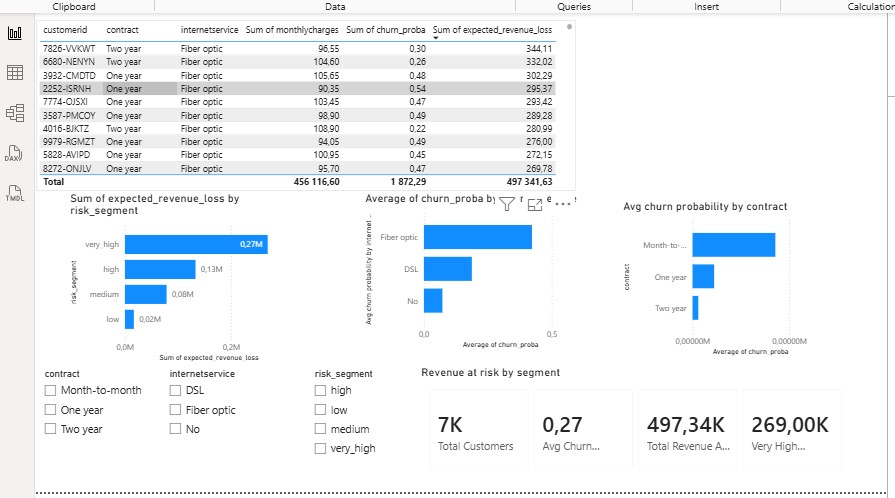

Layout of this report page (visuals, bound fields, positions):
{"tool":"powerbi","page":{"name":"Page 1","canvas":[1280,720],"ordinal":0},"visuals":[{"type":"cardVisual","title":"Revenue at risk by segment","fields":{"Data":["powerbi_scoring_mart.Total Customers","powerbi_scoring_mart.Avg Churn Probability","powerbi_scoring_mart.Total Revenue At Risk","powerbi_scoring_mart.Very High Revenue At Risk"]},"box":[1.5,282.4,656.5,156.2],"z":0},{"type":"clusteredBarChart","fields":{"Category":["powerbi_scoring_mart.risk_segment"],"Y":["Sum(powerbi_scoring_mart.expected_revenue_loss)"]},"box":[981,267.4,280.9,250.9],"z":1000},{"type":"clusteredBarChart","title":"Avg churn probability by contract","fields":{"Category":["powerbi_scoring_mart.contract"],"Y":["Avg(powerbi_scoring_mart.churn_proba)"]},"box":[1050.1,0,229.9,231.4],"z":2000},{"type":"clusteredBarChart","fields":{"Category":["powerbi_scoring_mart.internetservice"],"Y":["Avg(powerbi_scoring_mart.churn_proba)"]},"box":[812.8,24,249.4,231.4],"z":3000},{"type":"tableEx","fields":{"Values":["powerbi_scoring_mart.customerid","powerbi_scoring_mart.contract","powerbi_scoring_mart.internetservice","Sum(powerbi_scoring_mart.monthlycharges)","Sum(powerbi_scoring_mart.churn_proba)","Sum(powerbi_scoring_mart.expected_revenue_loss)"]},"box":[1.5,10.5,811.3,256.9],"z":3001},{"type":"slicer","fields":{"Values":["powerbi_scoring_mart.contract"]},"box":[1.5,438.7,187.8,171.3],"z":3002},{"type":"slicer","fields":{"Values":["powerbi_scoring_mart.internetservice"]},"box":[216.3,438.7,168.3,156.2],"z":3003},{"type":"slicer","fields":{"Values":["powerbi_scoring_mart.risk_segment"]},"box":[384.6,438.7,168.3,156.2],"z":3004}]}

Visuals, with their boxes on the page's 1280x720 design canvas (x1, y1, x2, y2). These are canvas units, not pixel positions in the 895x498 screenshot, which may show the page scaled, cropped or inside an application window:
"Revenue at risk by segment" cardVisual: 2, 282, 658, 439
clusteredBarChart - powerbi_scoring_mart.risk_segment x Sum(powerbi_scoring_mart.expected_revenue_loss): 981, 267, 1262, 518
"Avg churn probability by contract" clusteredBarChart: 1050, 0, 1280, 231
clusteredBarChart - powerbi_scoring_mart.internetservice x Avg(powerbi_scoring_mart.churn_proba): 813, 24, 1062, 255
tableEx - powerbi_scoring_mart.customerid x powerbi_scoring_mart.contract: 2, 10, 813, 267
slicer - powerbi_scoring_mart.contract: 2, 439, 189, 610
slicer - powerbi_scoring_mart.internetservice: 216, 439, 385, 595
slicer - powerbi_scoring_mart.risk_segment: 385, 439, 553, 595
